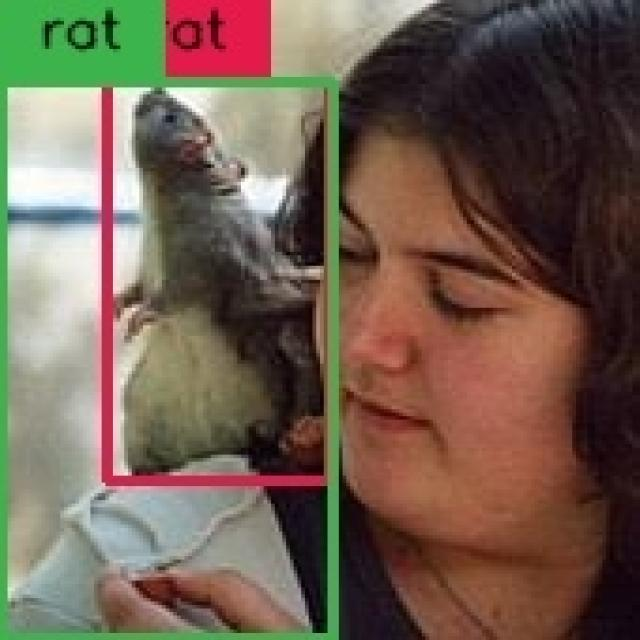rat: (0, 82, 331, 638), (109, 82, 328, 481)
